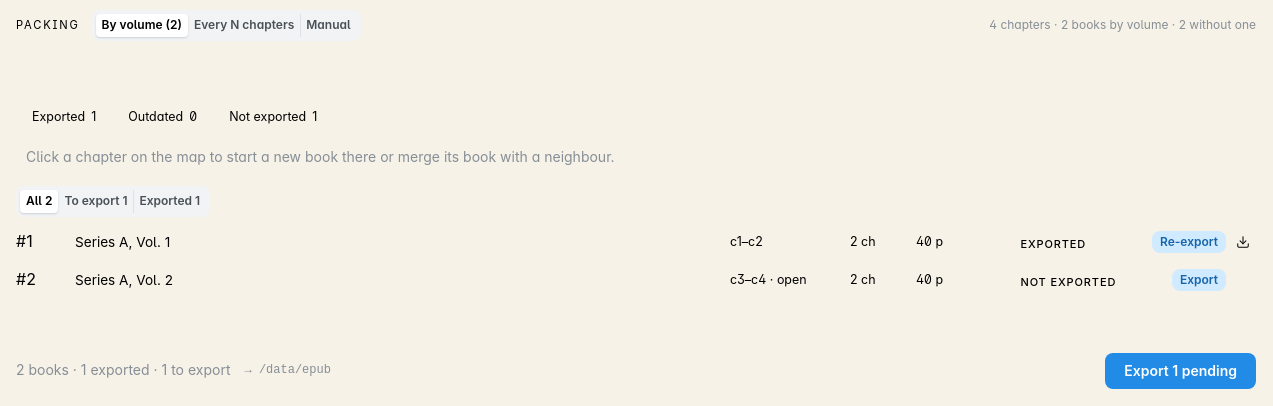
EpubPacker › disables per-book export and discards back to the saved books
Type "Arc two" into the field named "Title of book 2" at [397, 280], box [74,264,720,294]
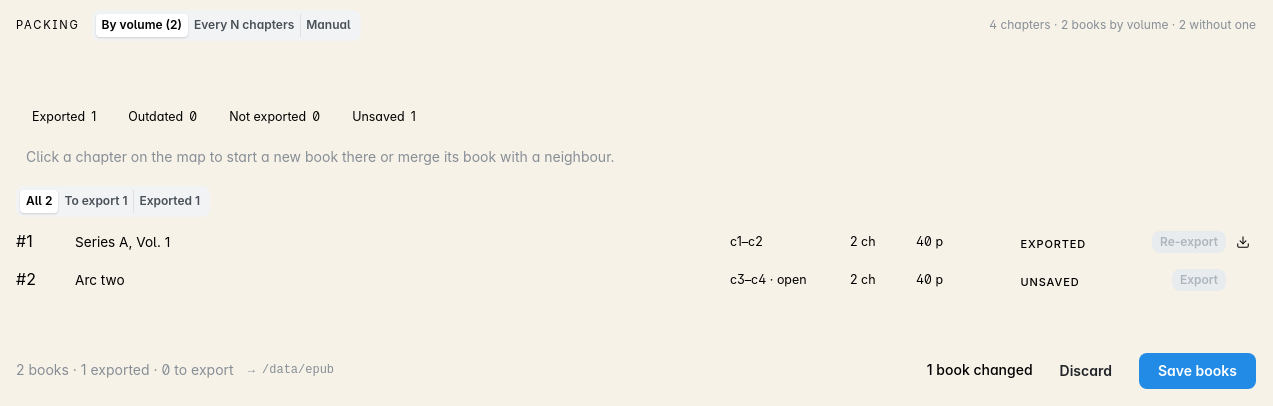
Check: the text "1 book changed" is shown, box [927,360,1033,381]
Check: the button "Re-export" is disabled, box [1152,230,1226,252]
Check: the button "Export" is disabled, box [1172,268,1226,290]
Click the button "Discard" at [1086, 370], box [1041,352,1131,388]
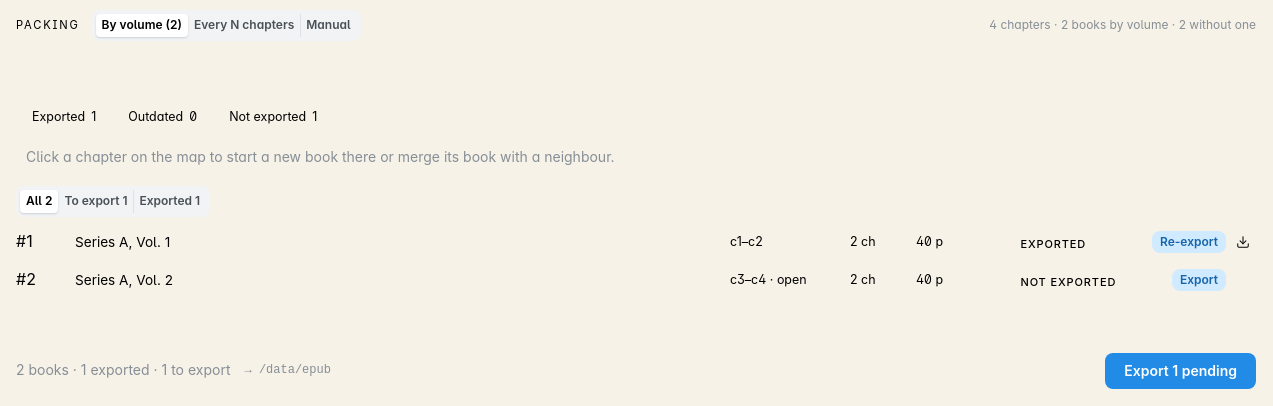
Check: the field named "Title of book 2" is empty, box [74,264,720,294]
Check: the button "Export 1 pending" is enabled, box [1105,352,1256,388]
